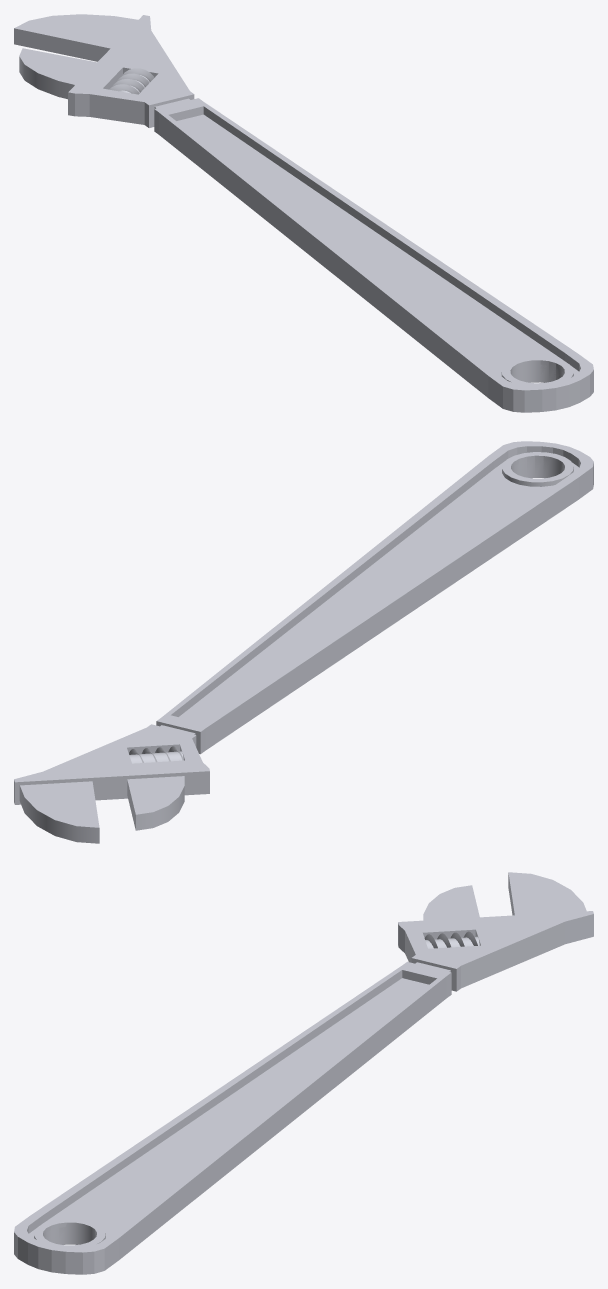
File: Wrench.fbx
3 views of the same model, one above another, from view 1: azimuth 30°, elevation 25°; view 2: azimuth 150°, elevation 25°; view 3: azimuth 330°, elevation 25° (orthographic).
Visible parts, largest first — view 1: pCylinder5; view 2: pCylinder5; view 3: pCylinder5.
Boxes of the visible parts, left/top/right/bottom form: pCylinder5: left=14, top=14, right=593, bottom=412; pCylinder5: left=14, top=441, right=593, bottom=843; pCylinder5: left=14, top=872, right=593, bottom=1274.
Size of the model in its own units: 46.05 by 10.3 by 291.
